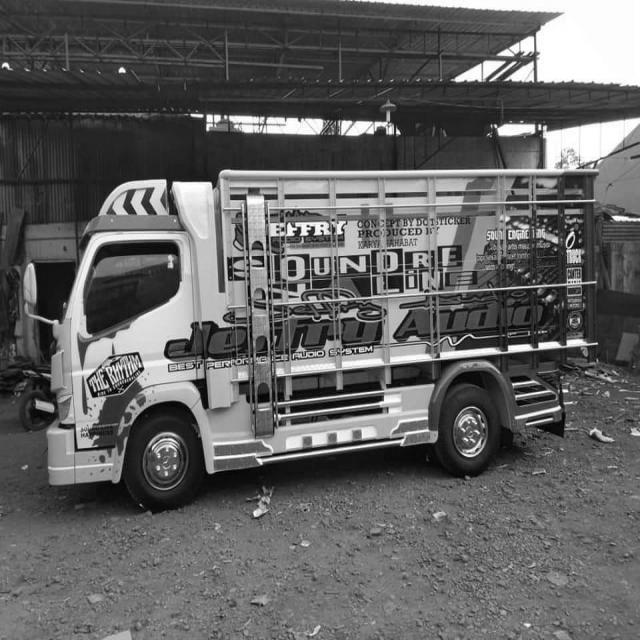truck: (26, 152, 240, 511)
